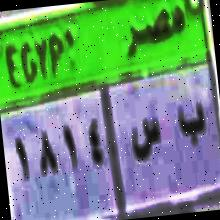1: (62, 119, 81, 174), (12, 130, 32, 182)
4: (82, 116, 107, 170)
8: (36, 129, 60, 180)
baa: (174, 97, 210, 149)
seen: (128, 109, 165, 172)
